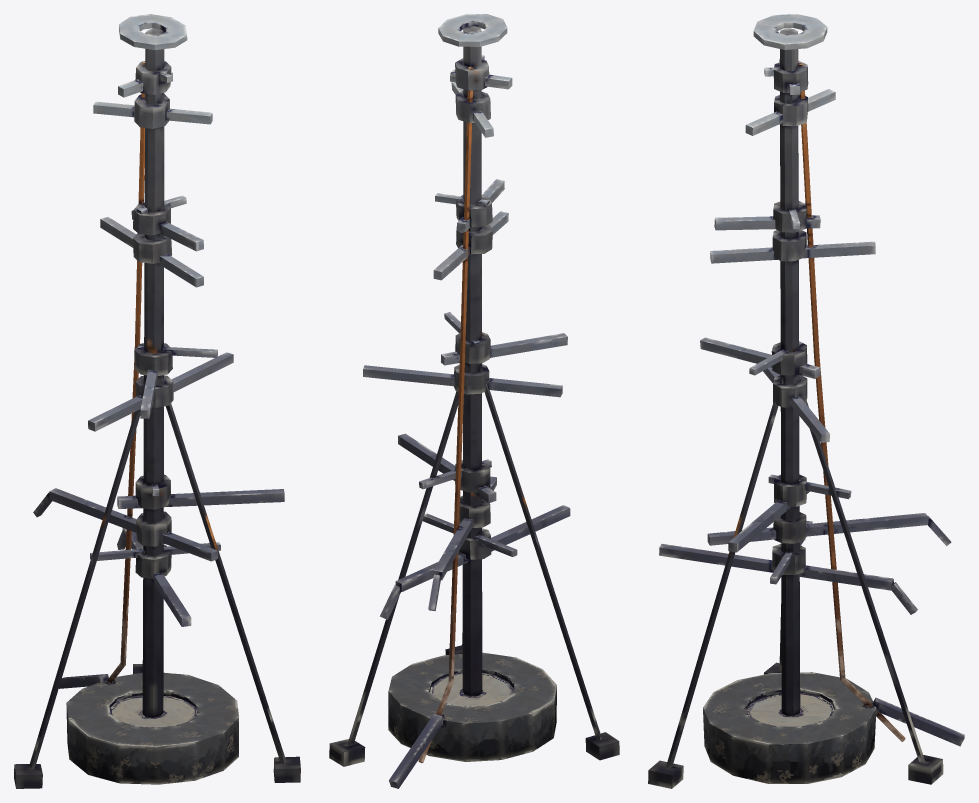
3 views of the same model, side by side, from view 1: azimuth 30°, elevation 25°; view 2: azimuth 150°, elevation 25°; view 3: azimuth 270°, elevation 25° (orthographic). The views are drawn at different scales.
Visible parts, largest first — view 1: Mast, Elements, Tyre, Cable, Fill; view 2: Mast, Elements, Tyre, Cable, Fill; view 3: Mast, Elements, Tyre, Cable, Fill.
Part boxes in pixels (left/top/right/bottom): Mast: left=14, top=28, right=300, bottom=788; Elements: left=33, top=14, right=284, bottom=688; Tyre: left=66, top=672, right=238, bottom=784; Cable: left=107, top=62, right=145, bottom=682; Fill: left=109, top=696, right=197, bottom=727; Mast: left=329, top=26, right=619, bottom=766; Elements: left=363, top=14, right=570, bottom=788; Tyre: left=388, top=652, right=556, bottom=761; Cable: left=418, top=66, right=473, bottom=762; Fill: left=430, top=672, right=513, bottom=706; Mast: left=648, top=28, right=943, bottom=788; Elements: left=659, top=14, right=964, bottom=746; Tyre: left=703, top=672, right=876, bottom=783; Cable: left=798, top=63, right=905, bottom=741; Fill: left=746, top=693, right=834, bottom=726.
Size of the model in its own units: 5.58 by 15.52 by 6.19.
5 materials, 5 textured.
